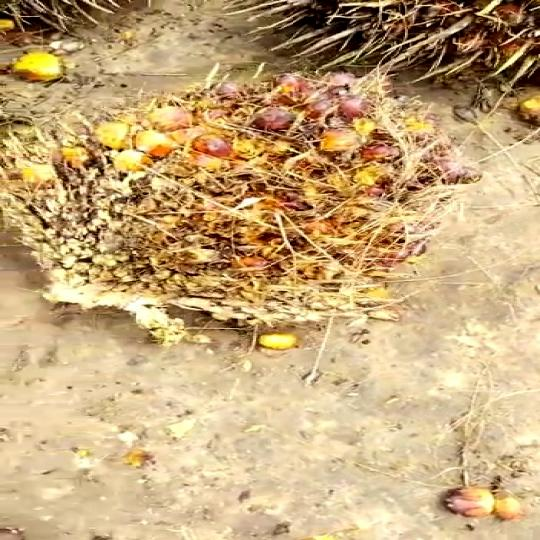masak: (0, 58, 497, 351)
